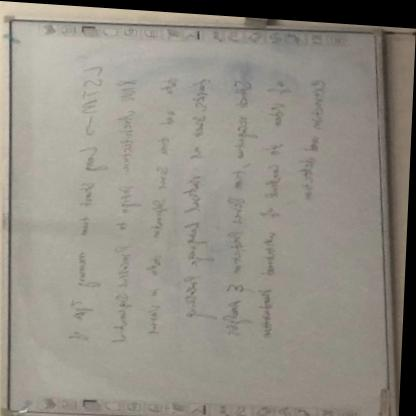Handwritten text: (61, 56, 111, 344), (135, 63, 184, 339), (172, 68, 221, 335), (250, 70, 297, 344), (106, 72, 143, 345), (224, 71, 257, 340), (286, 68, 334, 207)
Whiteboard: (7, 14, 396, 416)
